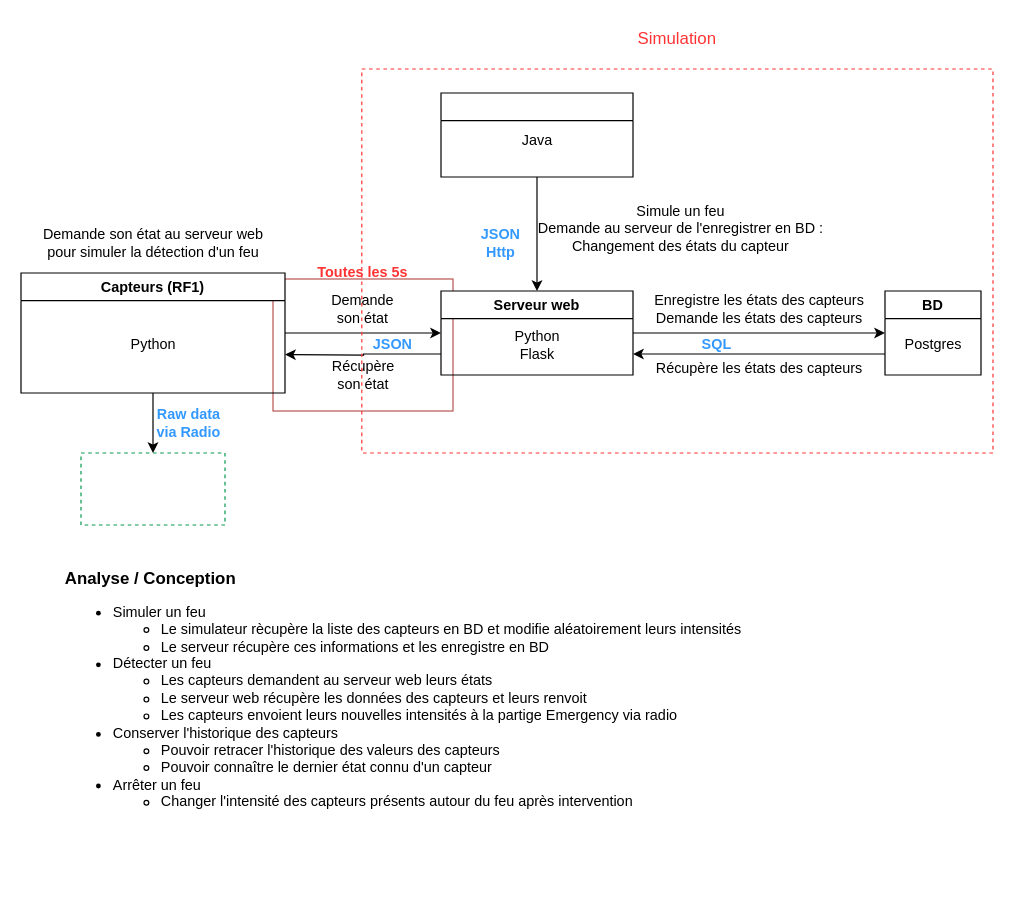
Image size: 1014x917. Some labels were removed from this diagram. The shapes that lost their labels are listed below. From the top down, each one's box as (x1, y1, x2, y2) in pixels, then its label:
(440, 92, 633, 177): Simulateur
(80, 452, 225, 525): Emergency
